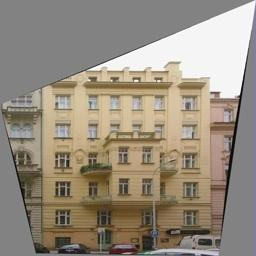building: (43, 60, 211, 252)
